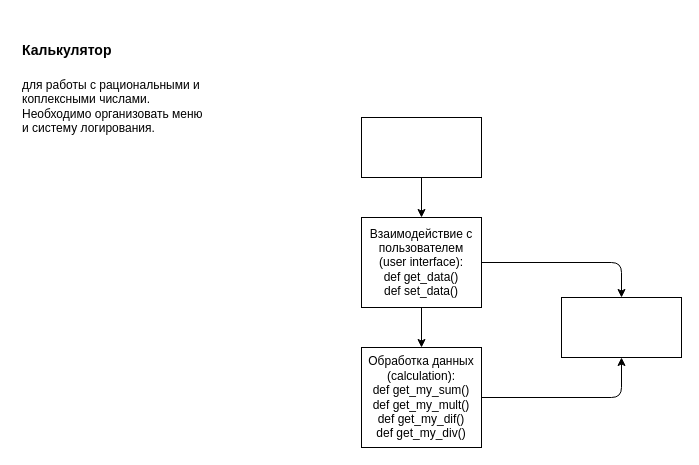
Image size: 699x465. Some labels were removed from this diagram. Here are the shapes that lost their labels. From the top down, the centre of each, then its label:
point 421,147: main()
point 621,327: Логирование (logging): def data_logging()
